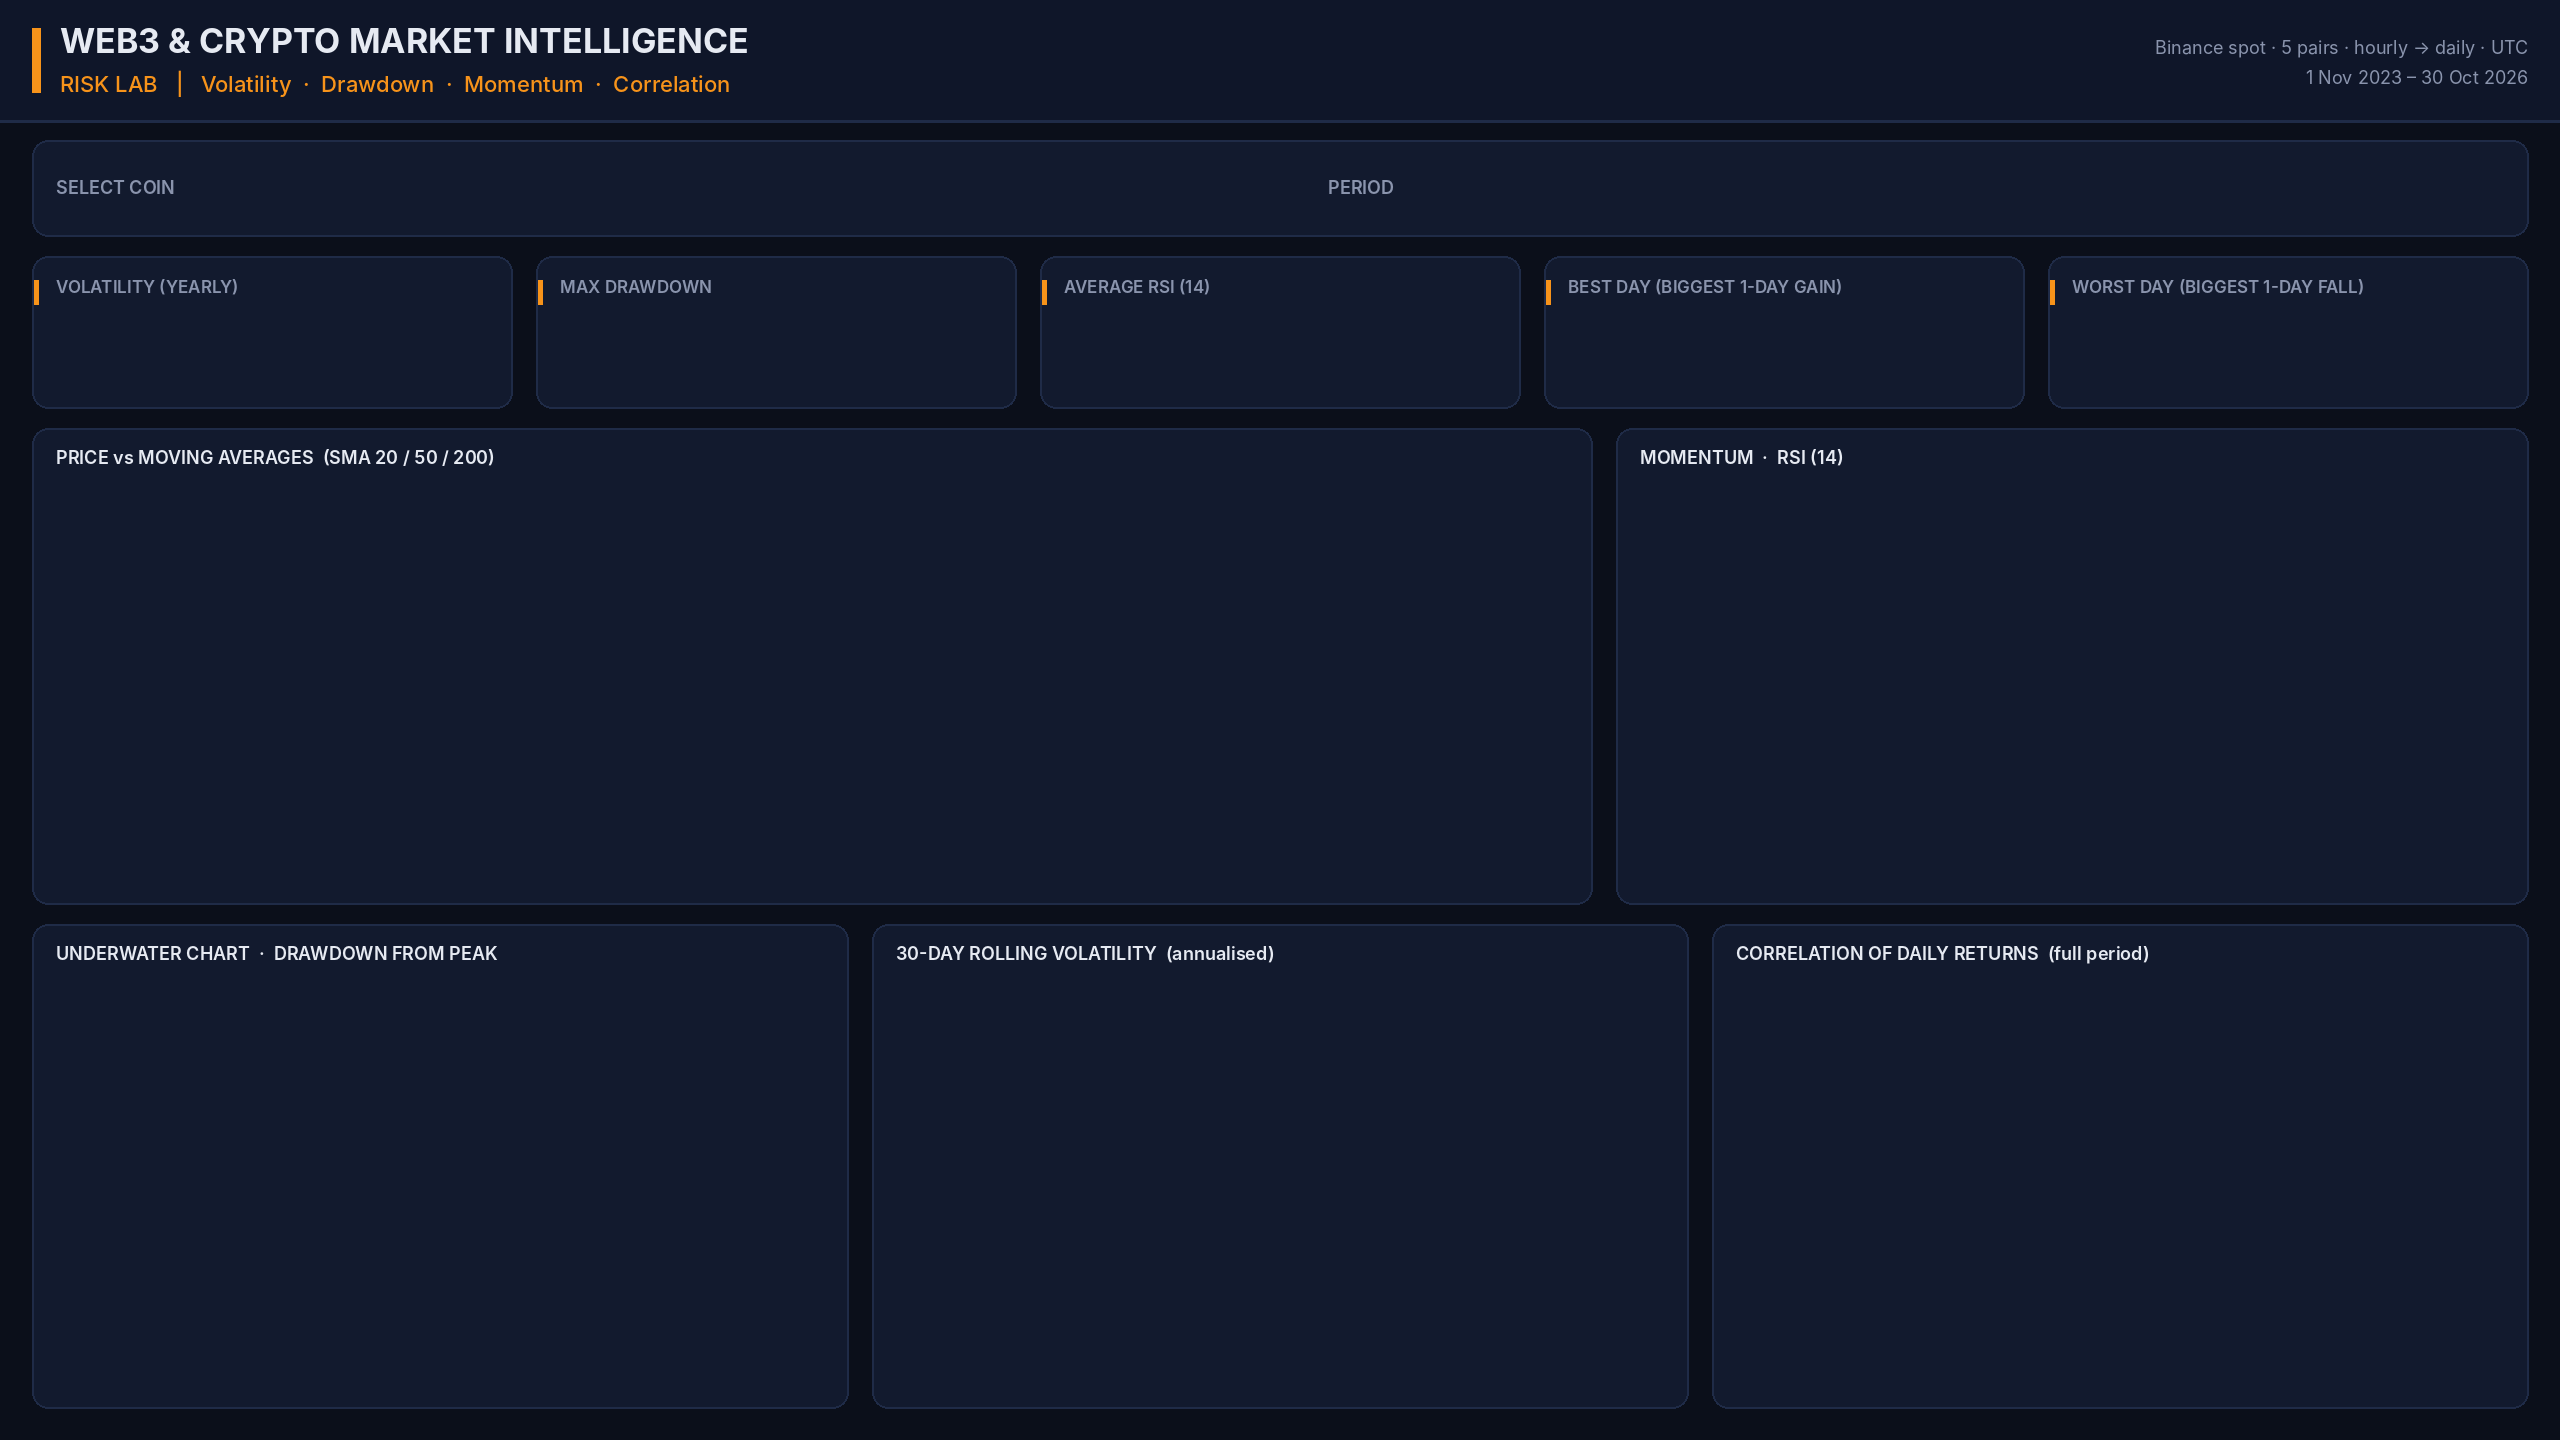

This screenshot's page, from the dashboard's own definition file:
{"tool":"powerbi","page":{"name":"Risk Lab","canvas":[2560,1440],"ordinal":1},"visuals":[{"type":"slicer","fields":{"Values":["dim_coin.ticker"]},"box":[268,162,220,40],"z":0},{"type":"slicer","fields":{"Values":["dim_date.Year"]},"box":[1507.4,157.8,526.7,47.9],"z":1000},{"type":"cardVisual","fields":{"Data":["_Measures.Volatility (Yearly)"]},"box":[26.6,253.6,482.4,149],"z":2000},{"type":"cardVisual","fields":{"Data":["_Measures.Average RSI (14)"]},"box":[1042.8,248.3,477,157.8],"z":3000},{"type":"cardVisual","fields":{"Data":["_Measures.Best Day"]},"box":[1544.6,253.6,477,157.8],"z":4000},{"type":"cardVisual","fields":{"Data":["_Measures.Max Drawdown"]},"box":[539.1,253.6,482.4,149],"z":5000},{"type":"cardVisual","fields":{"Data":["_Measures.Worst Day"]},"box":[2048.3,251.8,487.7,150.7],"z":6000},{"type":"lineChart","fields":{"Category":["dim_date.Date"],"Y":["Avg(fact_daily.rsi14)"]},"box":[1619.1,484.1,916.8,418.5],"z":8000},{"type":"areaChart","fields":{"Category":["dim_date.Date"],"Y":["Avg(fact_daily.drawdown)"]},"box":[26.6,973.6,824.6,439.8],"z":9000},{"type":"lineChart","fields":{"Category":["dim_date.Date"],"Y":["Avg(fact_daily.vol30_ann)"]},"box":[874.3,978.9,815.8,427.4],"z":10000},{"type":"pivotTable","fields":{"Columns":["corr_matrix.coin_y"],"Rows":["corr_matrix.coin_x"],"Values":["Avg(corr_matrix.correlation)"]},"box":[1709.6,955.9,819.3,475.3],"z":11000},{"type":"clusteredColumnChart","title":"v_daily","fields":{"Category":["dim_date.Date"],"Y":["Avg(fact_daily.daily_return)"]},"box":[26,484,1567,418],"z":13000},{"type":"actionButton","box":[540,428,170,42],"z":14000},{"type":"actionButton","box":[760,428,136,42],"z":15000},{"type":"actionButton","box":[972,430,128,40],"z":16000},{"type":"actionButton","box":[1040,28,300,68],"z":17000},{"type":"pageNavigator","box":[1380,28,660,68],"z":18000}]}

Visuals, with their boxes in screenshot pixels (x1, y1, x2, y2), scaled from the page's 2560x1440 canvas onto the 2560x1440 screenshot:
slicer - dim_coin.ticker: x1=268 y1=162 x2=488 y2=202
slicer - dim_date.Year: x1=1507 y1=158 x2=2034 y2=206
cardVisual - _Measures.Volatility (Yearly): x1=27 y1=254 x2=509 y2=403
cardVisual - _Measures.Average RSI (14): x1=1043 y1=248 x2=1520 y2=406
cardVisual - _Measures.Best Day: x1=1545 y1=254 x2=2022 y2=411
cardVisual - _Measures.Max Drawdown: x1=539 y1=254 x2=1022 y2=403
cardVisual - _Measures.Worst Day: x1=2048 y1=252 x2=2536 y2=402
lineChart - dim_date.Date x Avg(fact_daily.rsi14): x1=1619 y1=484 x2=2536 y2=903
areaChart - dim_date.Date x Avg(fact_daily.drawdown): x1=27 y1=974 x2=851 y2=1413
lineChart - dim_date.Date x Avg(fact_daily.vol30_ann): x1=874 y1=979 x2=1690 y2=1406
pivotTable - corr_matrix.coin_y x corr_matrix.coin_x: x1=1710 y1=956 x2=2529 y2=1431
"v_daily" clusteredColumnChart: x1=26 y1=484 x2=1593 y2=902
actionButton: x1=540 y1=428 x2=710 y2=470
actionButton: x1=760 y1=428 x2=896 y2=470
actionButton: x1=972 y1=430 x2=1100 y2=470
actionButton: x1=1040 y1=28 x2=1340 y2=96
pageNavigator: x1=1380 y1=28 x2=2040 y2=96
